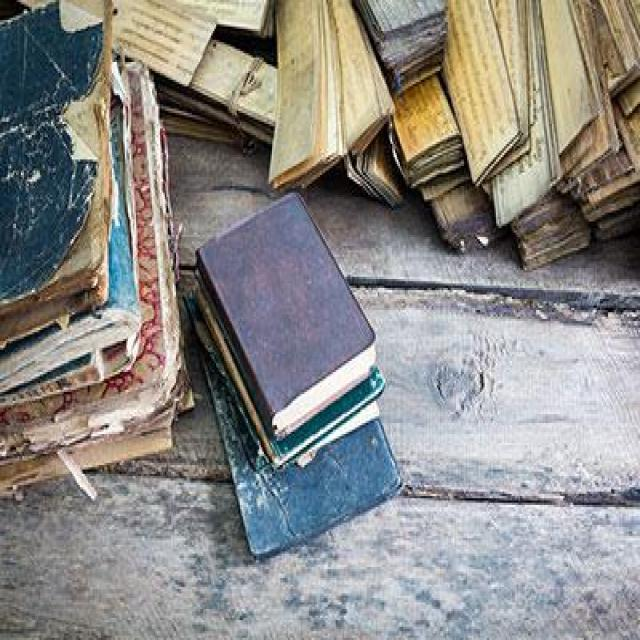paper: (0, 0, 199, 501), (186, 190, 403, 560)
